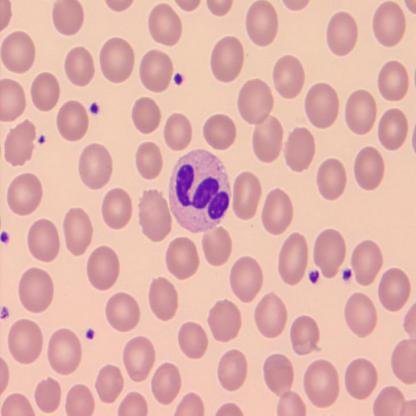Segmented neutrophil: (167, 148, 233, 234)
